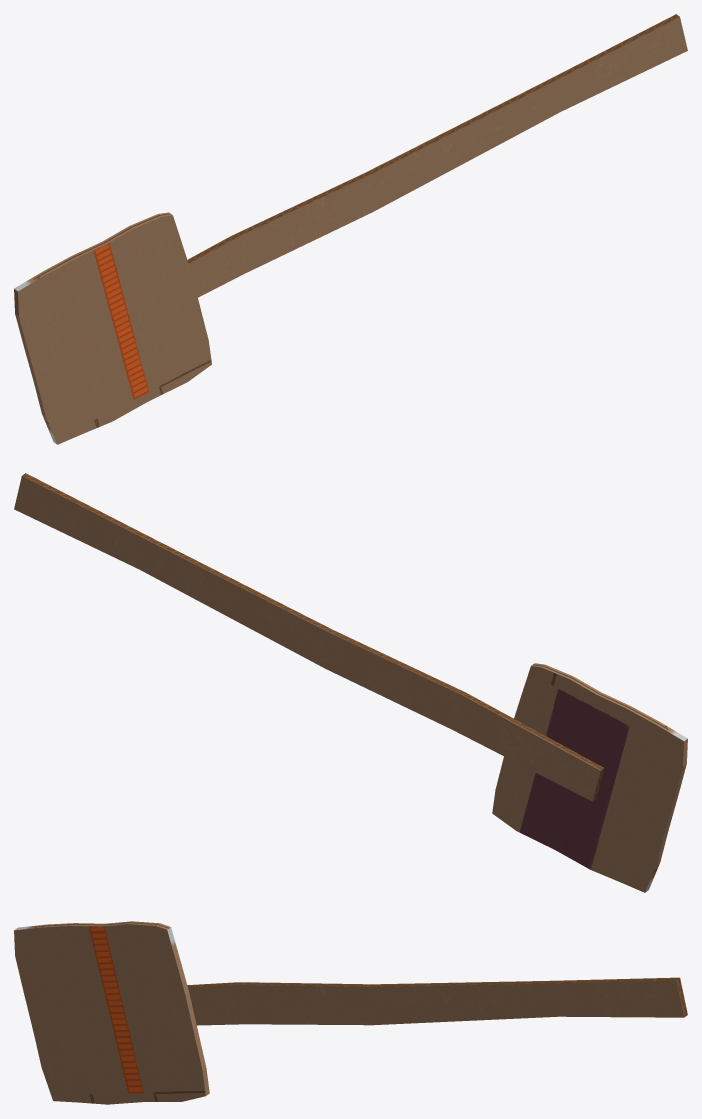
Rendered from Cuadrado.fbx.
3 views of the same model, one above another, from view 1: azimuth 30°, elevation 25°; view 2: azimuth 150°, elevation 25°; view 3: azimuth 330°, elevation 25° (orthographic).
Visible parts, largest first — view 1: letreroCuadrado, Palo; view 2: letreroCuadrado, Palo; view 3: letreroCuadrado, Palo.
Part boxes in pixels (box(x1,y1,x2,y2)): letreroCuadrado: box(14, 212, 211, 444); Palo: box(187, 14, 687, 297); letreroCuadrado: box(492, 663, 687, 892); Palo: box(14, 473, 604, 801); letreroCuadrado: box(14, 921, 209, 1104); Palo: box(187, 977, 687, 1025).
Bounding box in the file's own units: 40.33 × 15.56 × 0.8154.
